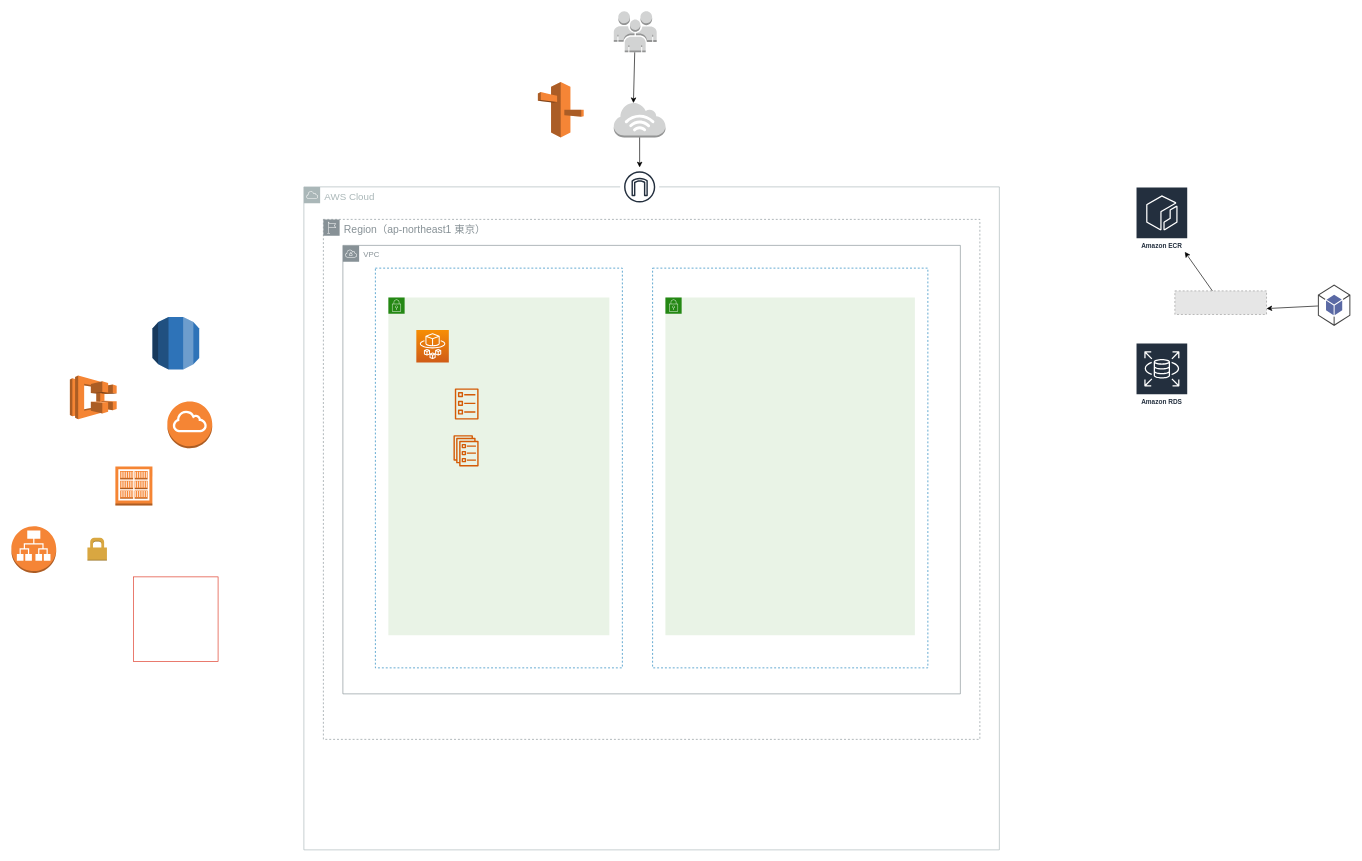
Some shapes in this 1362 by 861 pixel diagram are drawn without their labels. Grey dashed boxes stand in for pictures. Here are the shapes that lost their labels. From the top down, the box of each, then its label:
(620, 167, 659, 206): Internet gateway
(388, 297, 609, 635): Public subnet１
(665, 297, 915, 635): Public subnet２
(133, 576, 218, 661): Security group
